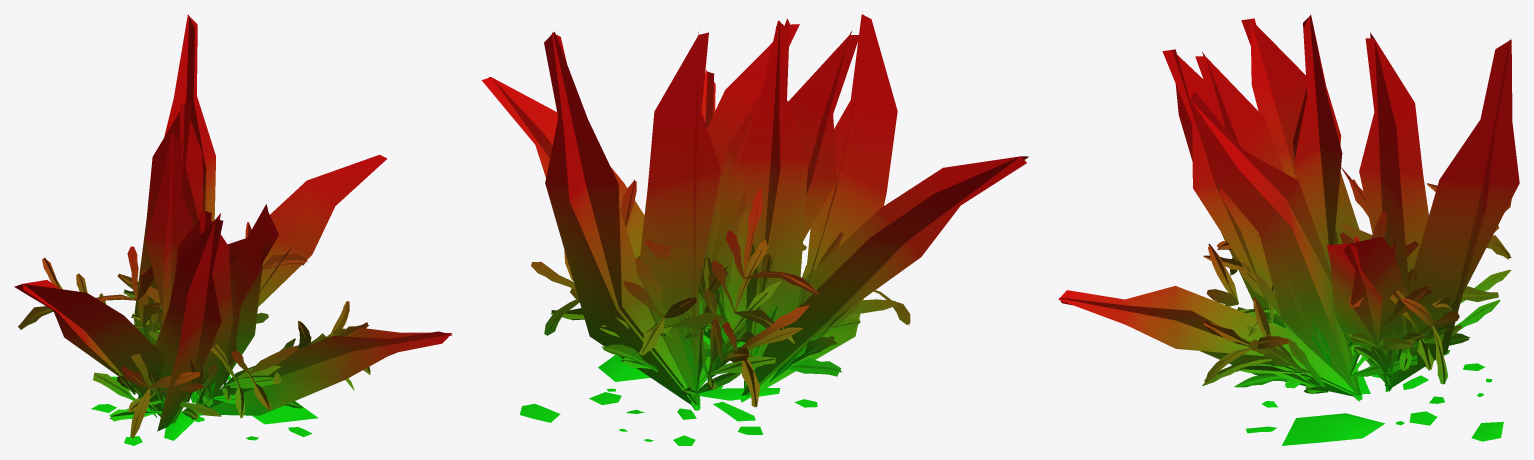
File: River Saltbush_LOD1_Var12_vdfpcgbia.fbx
The picture shows the model from 3 angles, left to right: view 1: azimuth 30°, elevation 25°; view 2: azimuth 150°, elevation 25°; view 3: azimuth 270°, elevation 25°; orthographic projection. The views are drawn at different scales.
Visible parts, largest first — view 1: _bd2u_Var12_LOD1; view 2: _bd2u_Var12_LOD1; view 3: _bd2u_Var12_LOD1.
Part boxes in pixels (bbox=[...]): _bd2u_Var12_LOD1: bbox=[14, 14, 452, 445]; _bd2u_Var12_LOD1: bbox=[481, 14, 1028, 445]; _bd2u_Var12_LOD1: bbox=[1058, 14, 1519, 445].
Size of the model in its own units: 20.74 by 16.38 by 17.48.
